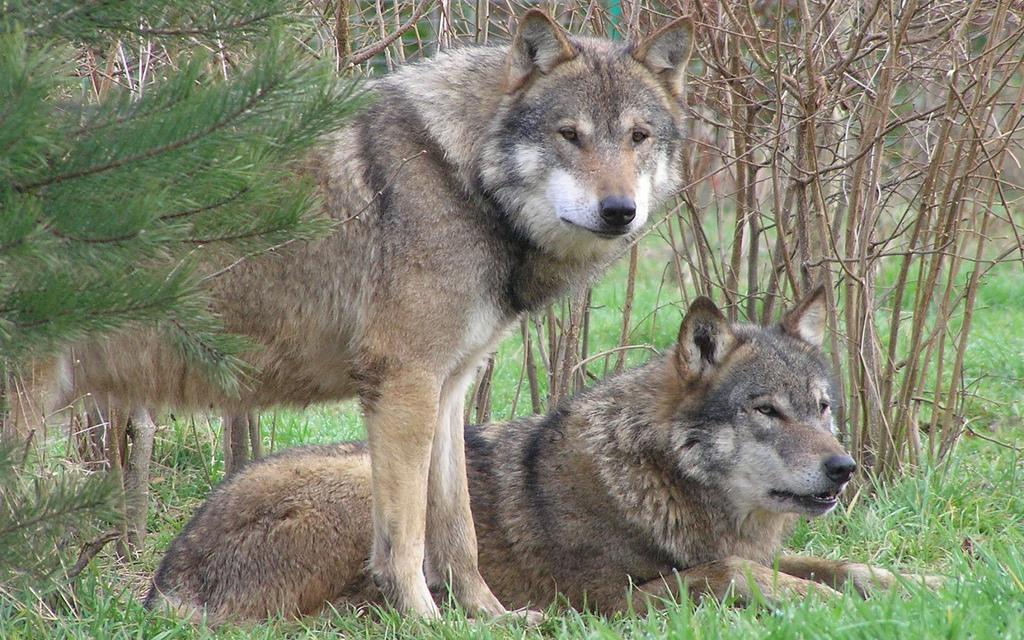Wolf: (5, 9, 695, 625), (149, 283, 966, 638)
